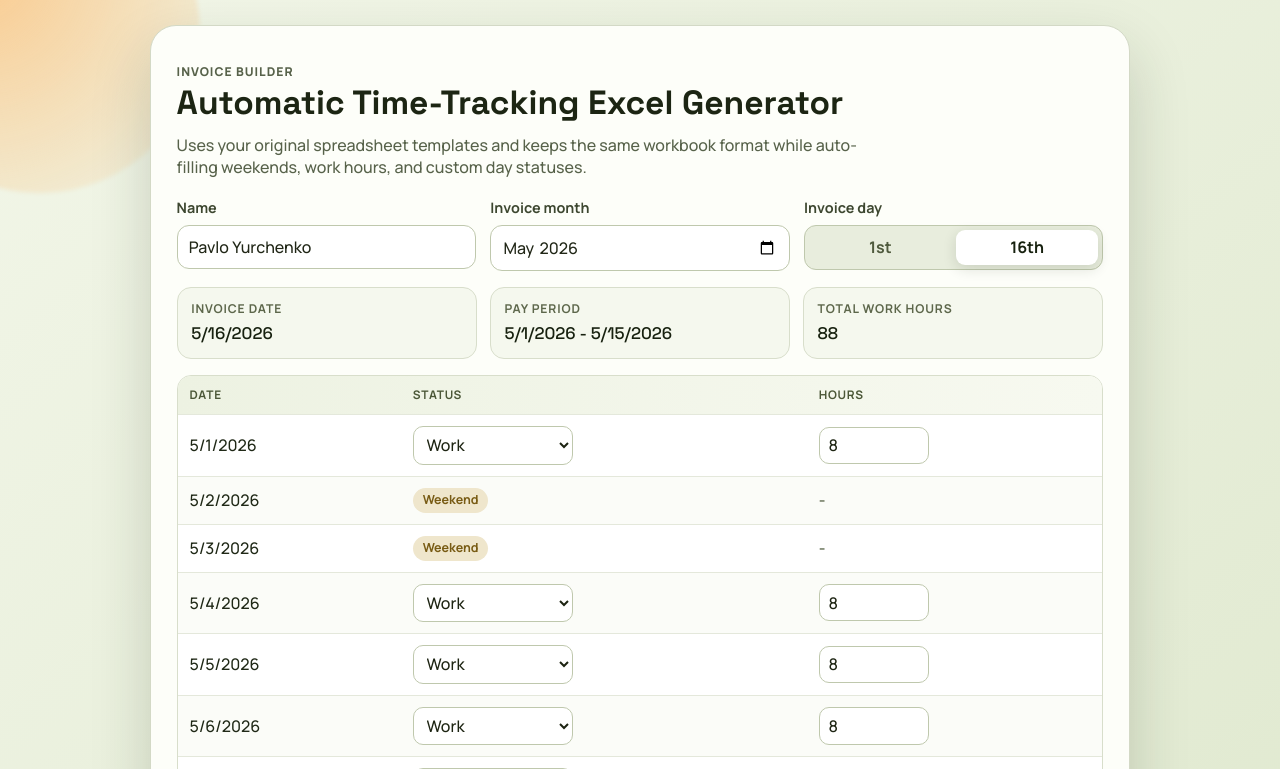
Test case: App generation behavior › blocks generation with the existing error when name is empty
Clear the field labelled "Name" at (326, 247), box [177,225,476,269]
(page scrolled)
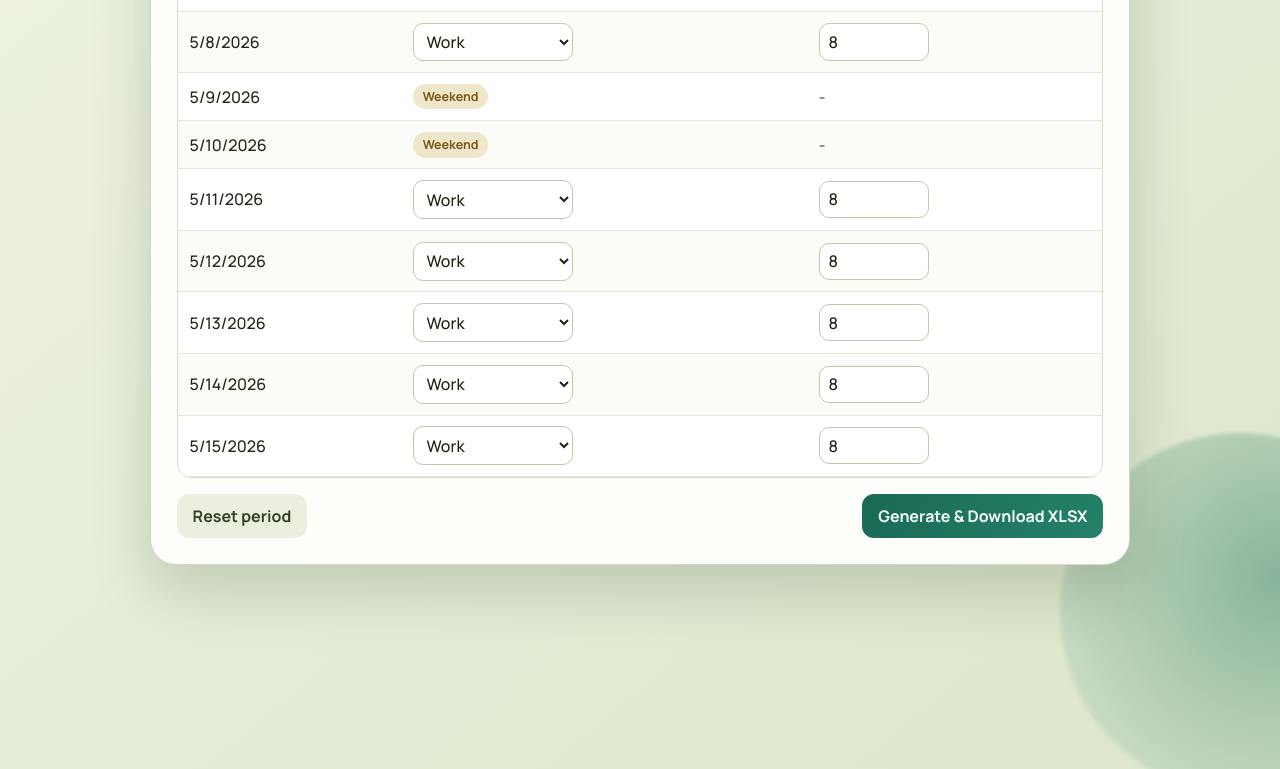
Click the button "Generate & Download XLSX" at (983, 516), box [862,494,1103,538]
(page scrolled)
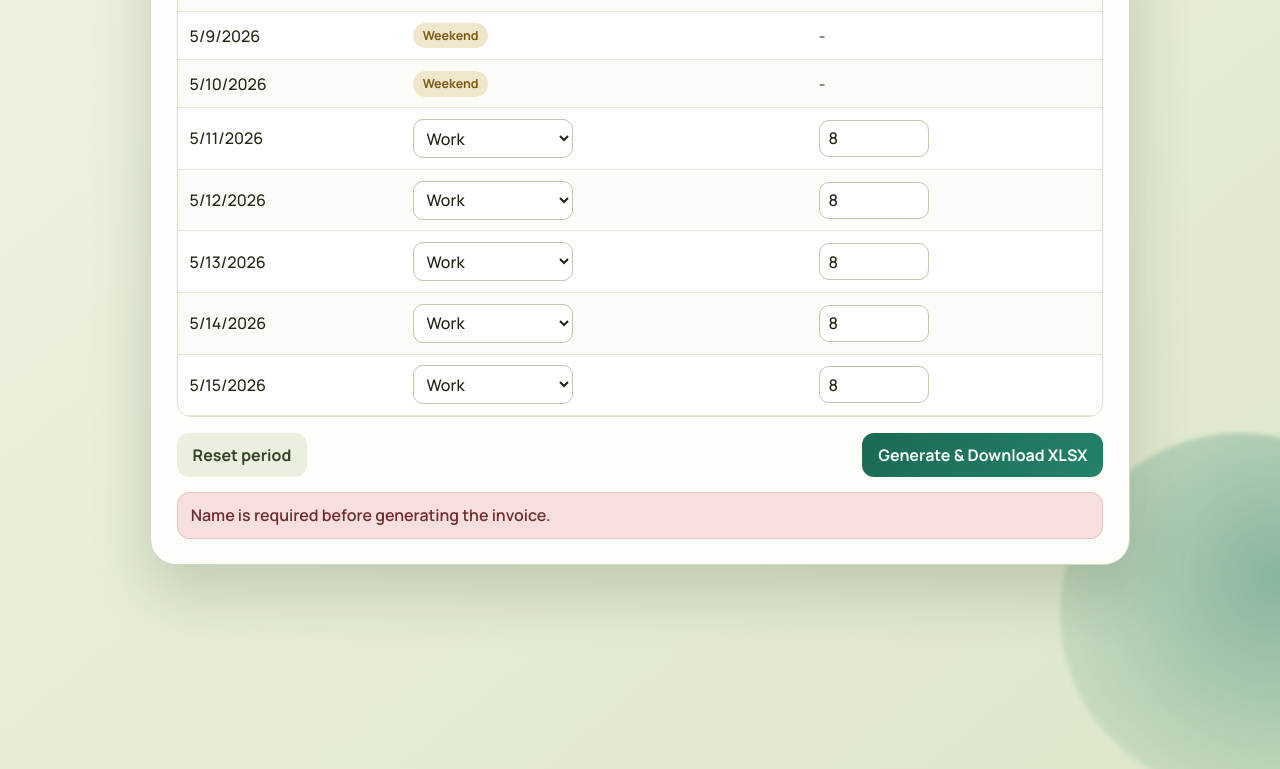
Expected: the text "Name is required before generating the invoice." is shown, [177,492,1103,538]
